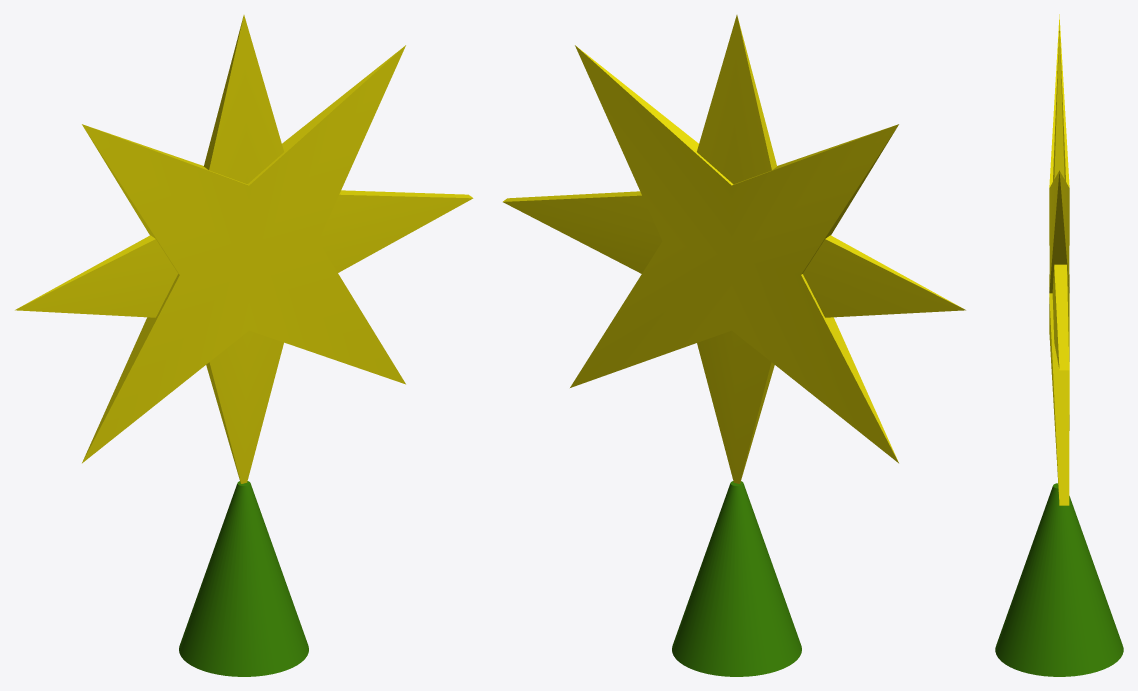
The model's file is Звезда на елку.fbx.
3 views of the same model, side by side, from view 1: azimuth 30°, elevation 25°; view 2: azimuth 150°, elevation 25°; view 3: azimuth 270°, elevation 25° (orthographic).
Parts seen in each view (by area): view 1: pCylinder3, pCylinder4; view 2: pCylinder3, pCylinder4; view 3: pCylinder4, pCylinder3.
Part boxes in pixels (x1,y1,x2,y2): pCylinder3: (15, 15, 473, 483); pCylinder4: (179, 481, 308, 676); pCylinder3: (503, 15, 965, 483); pCylinder4: (672, 481, 801, 676); pCylinder4: (995, 483, 1123, 676); pCylinder3: (1049, 14, 1069, 505).
Size of the model in its own units: 22.77 by 30.11 by 5.58.
